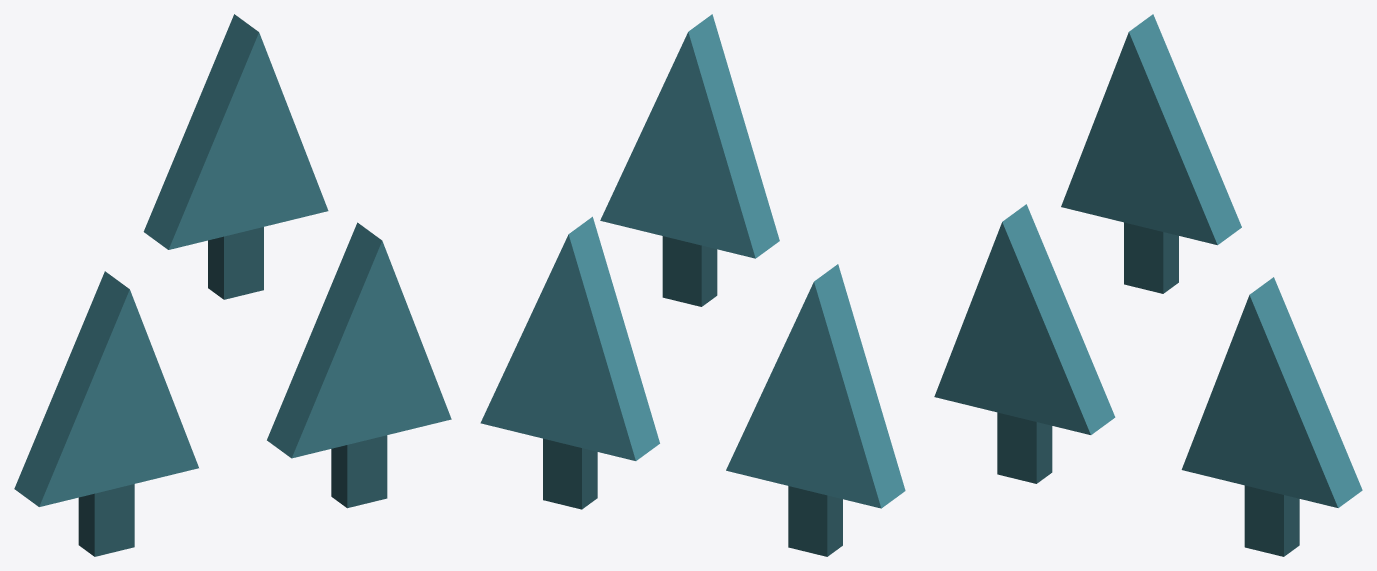
File: runeArrowheads.glb
3 renders of one model, left to right at view 1: azimuth 30°, elevation 25°; view 2: azimuth 150°, elevation 25°; view 3: azimuth 330°, elevation 25°, orthographic. The views are drawn at different scales.
Visible parts, largest first — view 1: runeArrowheads; view 2: runeArrowheads; view 3: runeArrowheads.
Boxes of the visible parts, x1,y1,x2,y2 form: runeArrowheads: (14, 14, 451, 556); runeArrowheads: (480, 14, 905, 556); runeArrowheads: (934, 14, 1362, 556).
Bounding box in the file's own units: 0.8428 × 1 × 0.1258.
